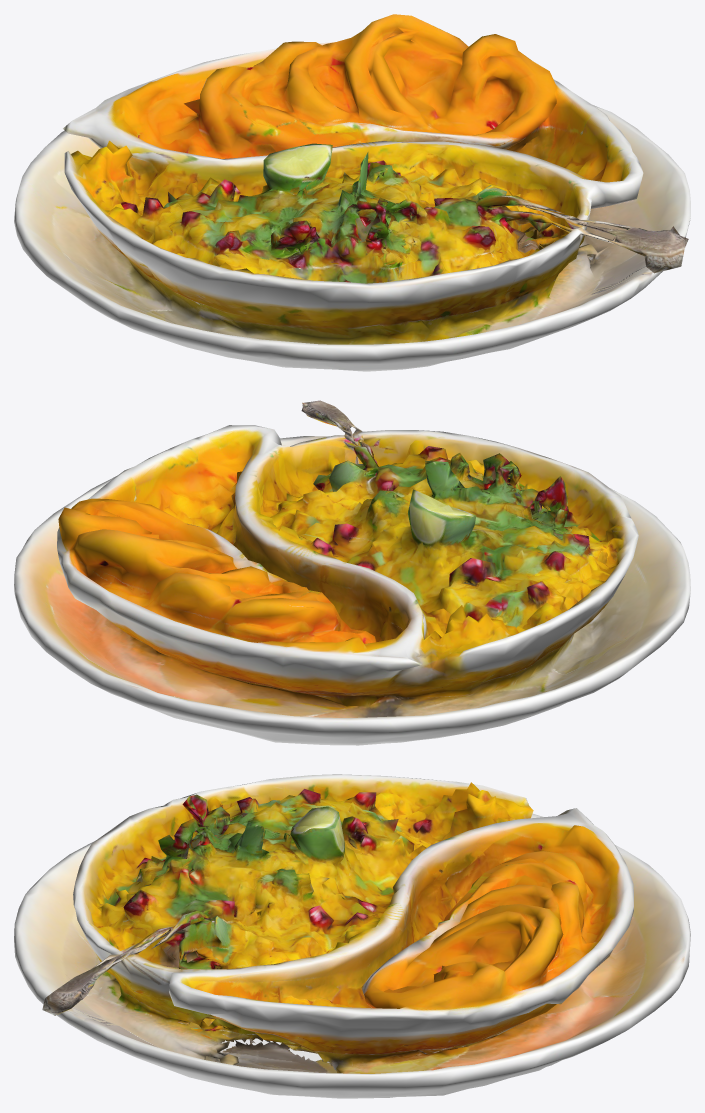
The model's file is Breakfast_Harmony_0505052603_texture.glb.
3 renders of one model, top to bottom at view 1: azimuth 30°, elevation 25°; view 2: azimuth 150°, elevation 25°; view 3: azimuth 270°, elevation 25°, orthographic.
Size of the model in its own units: 2 by 0.5047 by 2.
Materials: 1 (1 with a texture image).
